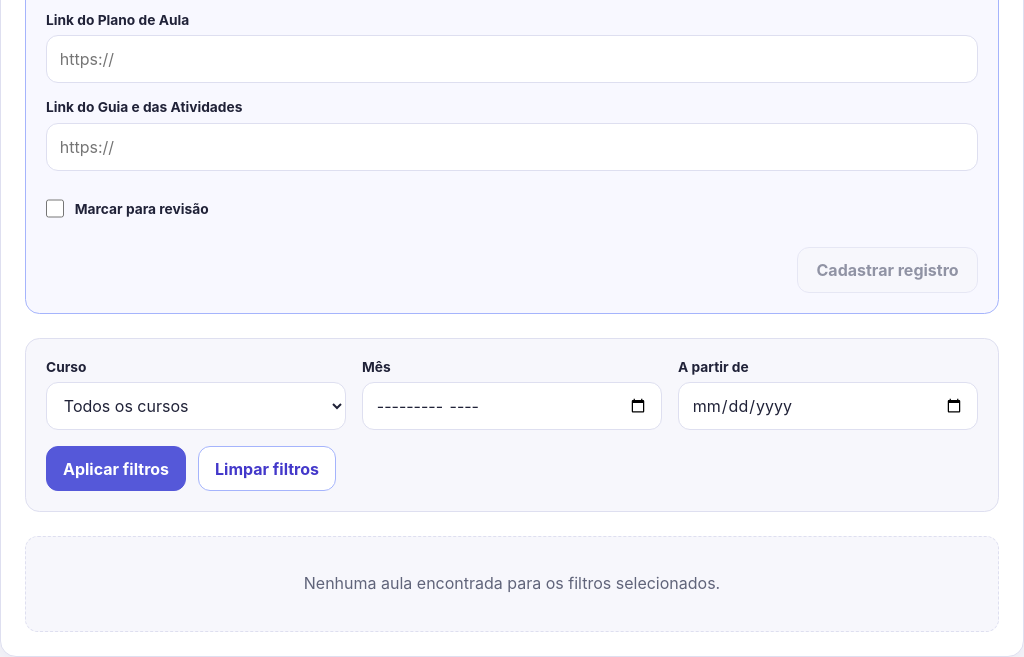
it: integração do cadastro com a consulta › atualiza a lista preservando os filtros aplicados
(page scrolled)
Check: the text "Nenhuma aula encontrada para os filtros selecionados." is shown, box x1=25 y1=536 x2=999 y2=632
Step 1. Select "RC — Redes de Computadores" in the dropdown labelled "Curso" → (196, 406), box x1=46 y1=382 x2=346 y2=430
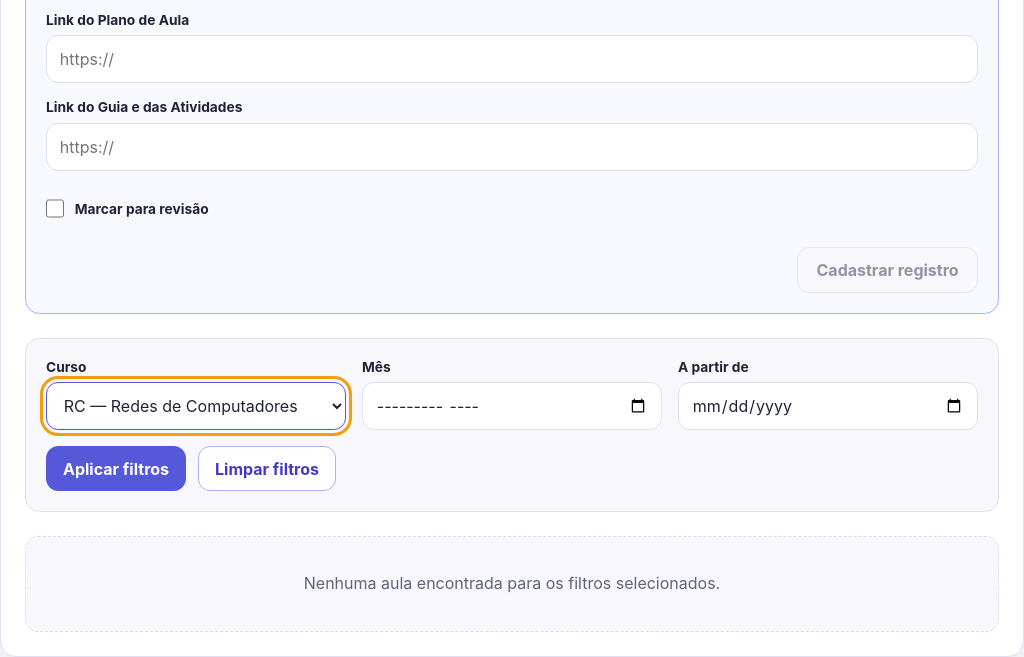
Step 2. Click the button "Aplicar filtros" → (116, 469), box x1=46 y1=446 x2=186 y2=491
(page scrolled)
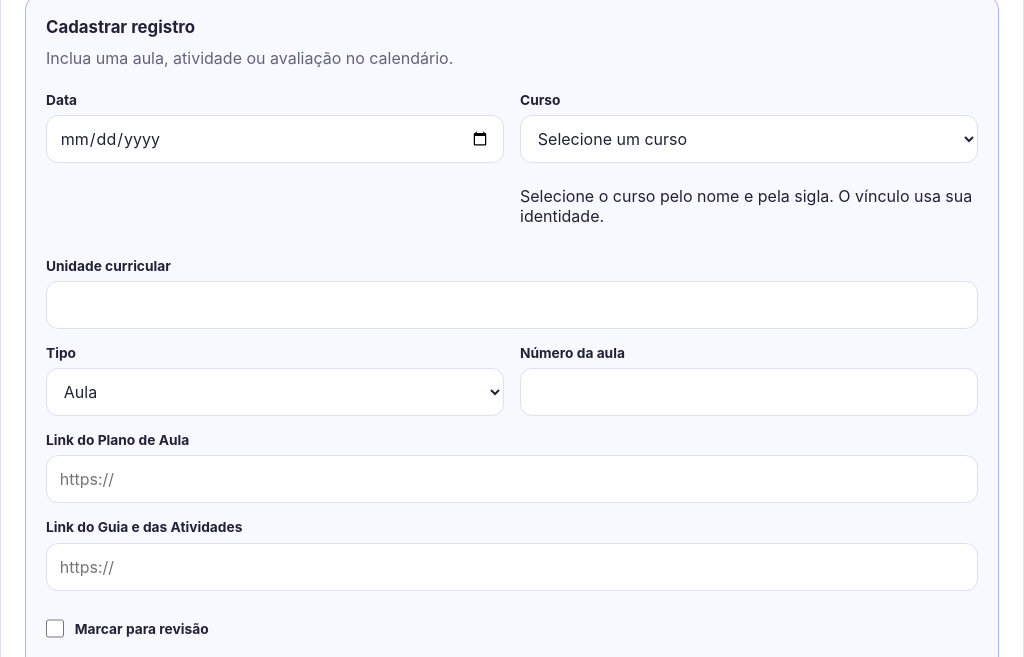
Step 3. Type "2026-09-19" into the date field labelled "Data" → (275, 139), box x1=46 y1=115 x2=504 y2=163
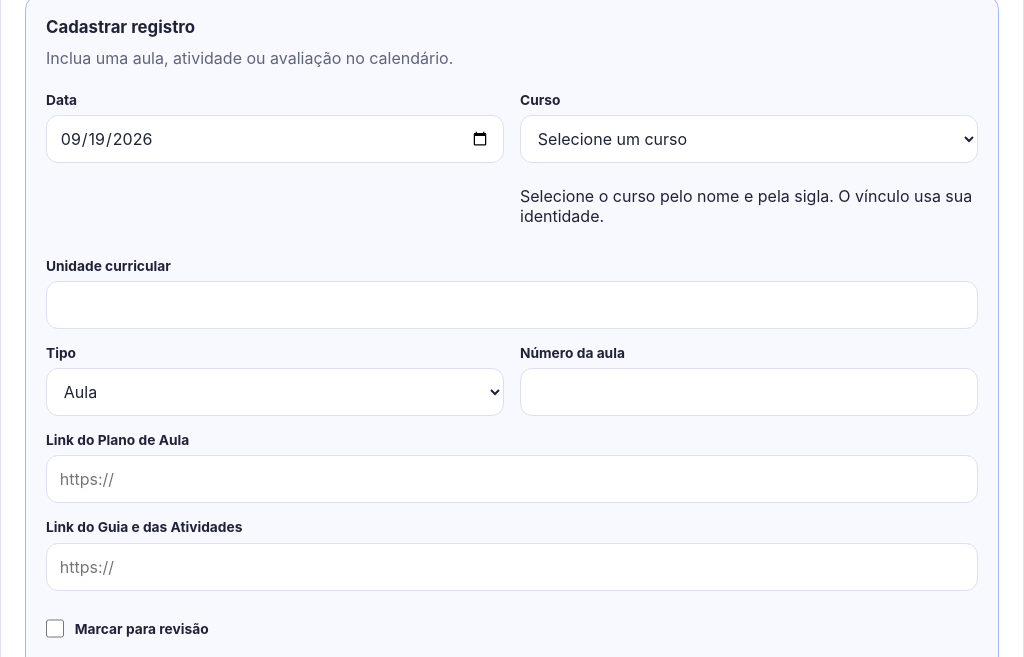
Step 4. Select "RC — Redes de Computadores" in the dropdown labelled "Curso" → (749, 139), box x1=520 y1=115 x2=978 y2=163
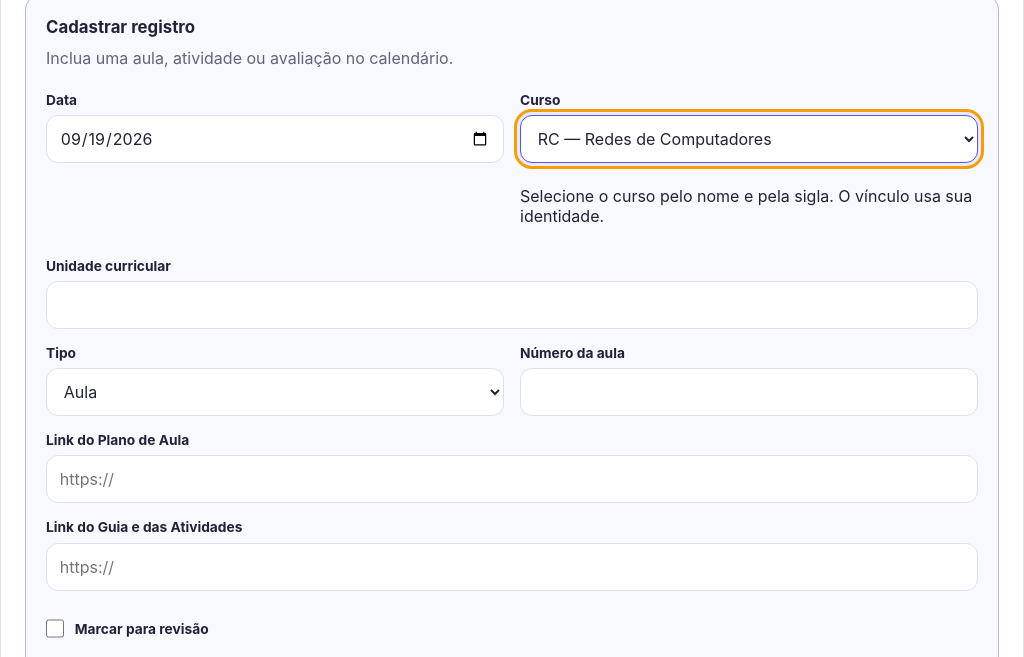
Step 5. Type "Marketing Digital" into the field labelled "Unidade curricular" → (512, 305), box x1=46 y1=281 x2=978 y2=329
(page scrolled)
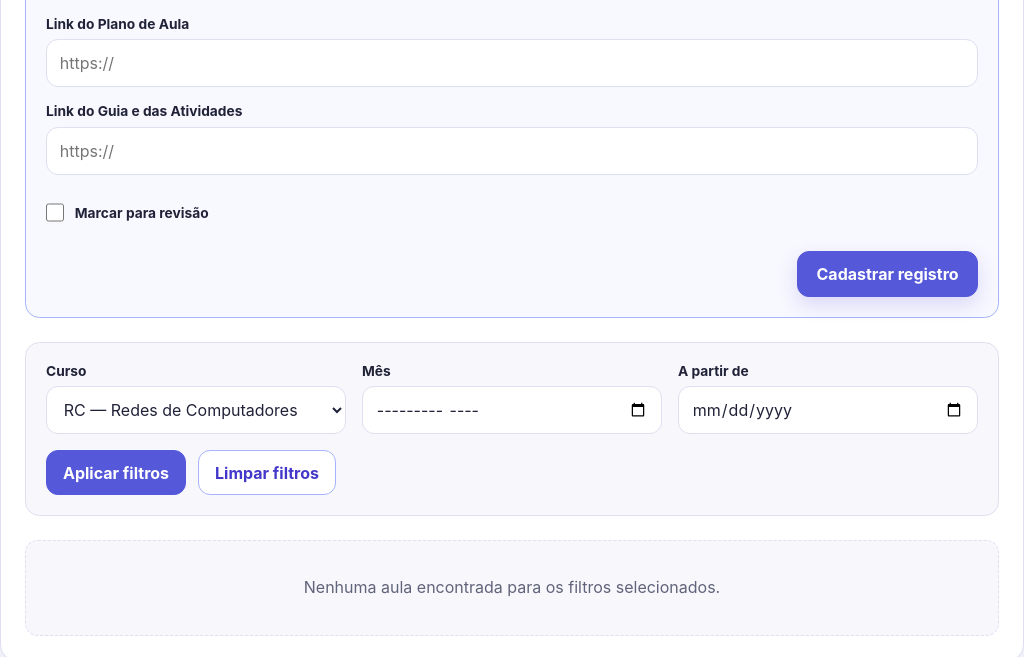
Step 6. Click the button "Cadastrar registro" → (888, 274), box x1=797 y1=251 x2=978 y2=297
(page scrolled)
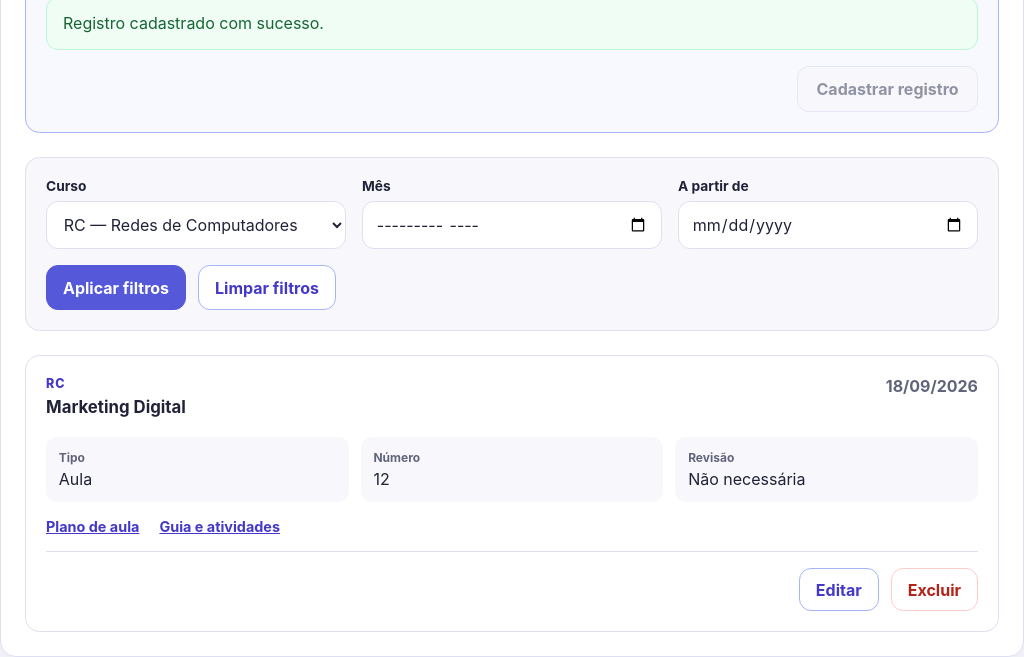
Check: the heading "Marketing Digital" is shown, box x1=46 y1=397 x2=186 y2=417
